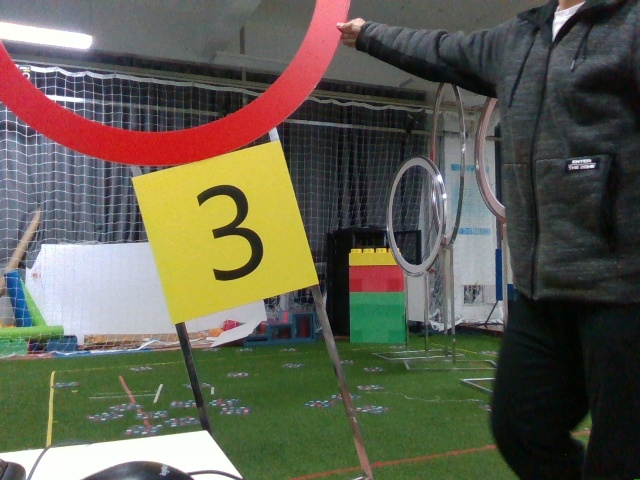target: (153, 170, 301, 298)
